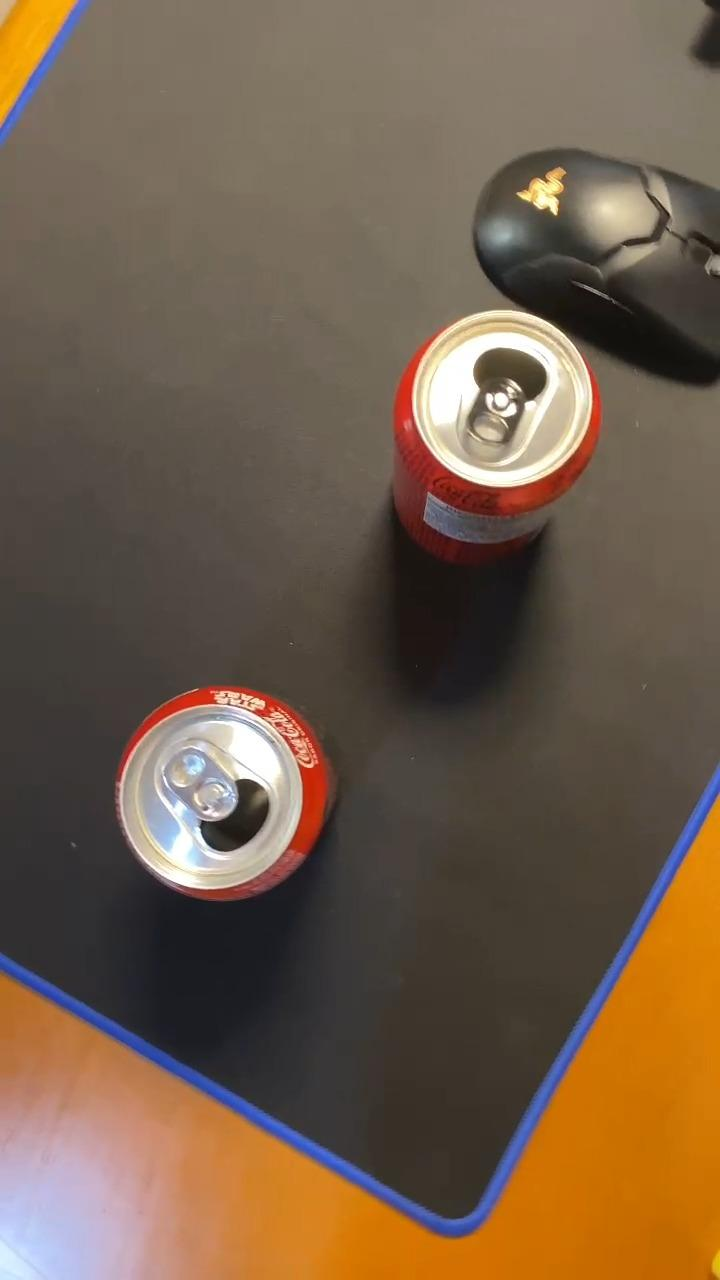coke: (389, 309, 603, 566), (113, 681, 339, 901)
